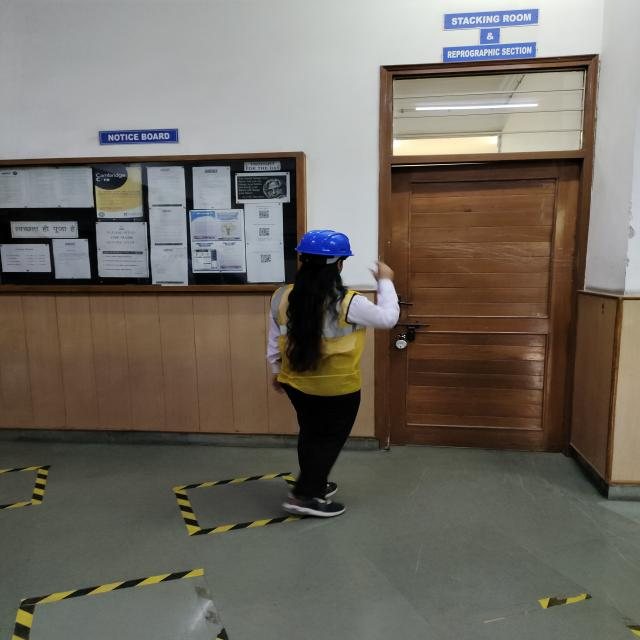safe: (266, 230, 398, 517)
